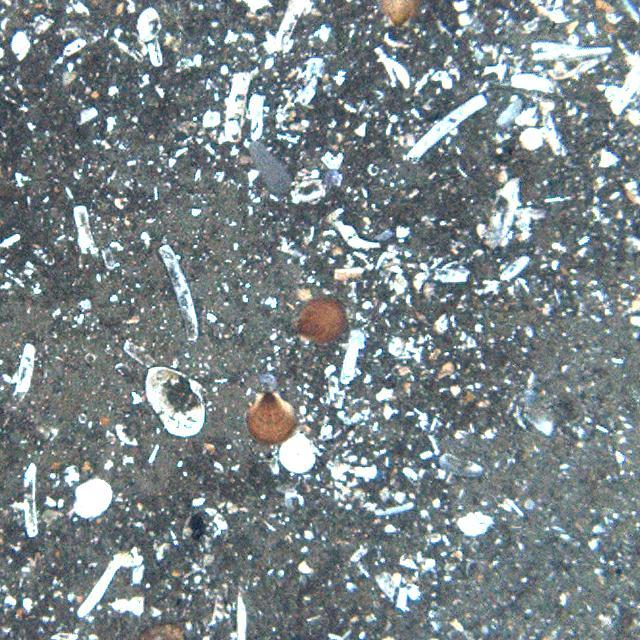scallop: (243, 389, 298, 445), (296, 295, 346, 344)
